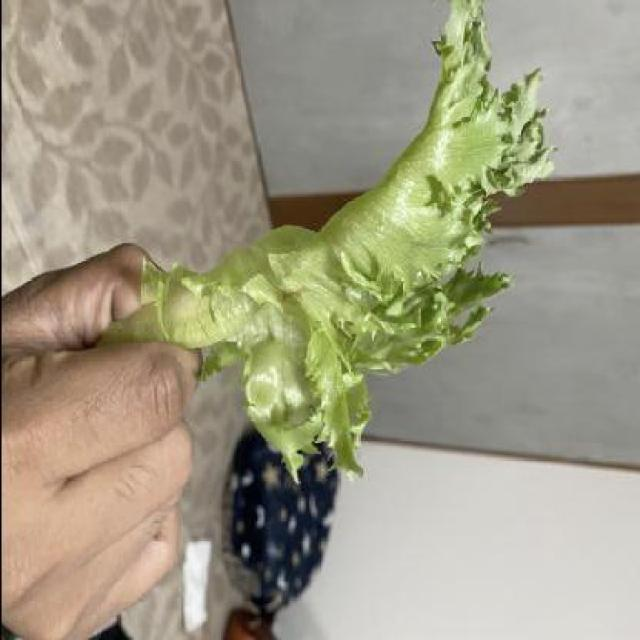Lettuce: (146, 0, 562, 471)
